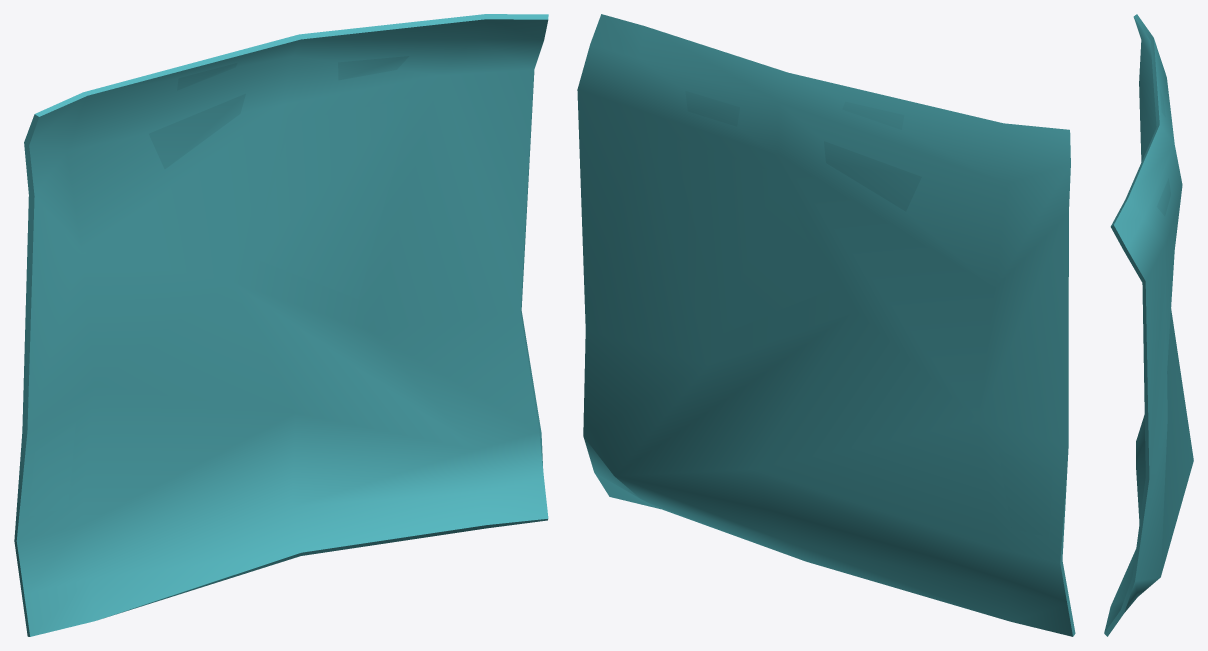
File: ResizedSticky.fbx
3 views of the same model, side by side, from view 1: azimuth 30°, elevation 25°; view 2: azimuth 150°, elevation 25°; view 3: azimuth 270°, elevation 25° (orthographic). The views are drawn at different scales.
Visible parts, largest first — view 1: pCube1; view 2: pCube1; view 3: pCube1.
Part boxes in pixels (x1,y1,x2,y2): pCube1: (14,14,548,636); pCube1: (577,14,1075,636); pCube1: (1104,14,1193,636).
Size of the model in its own units: 26.51 by 25.98 by 4.89.
